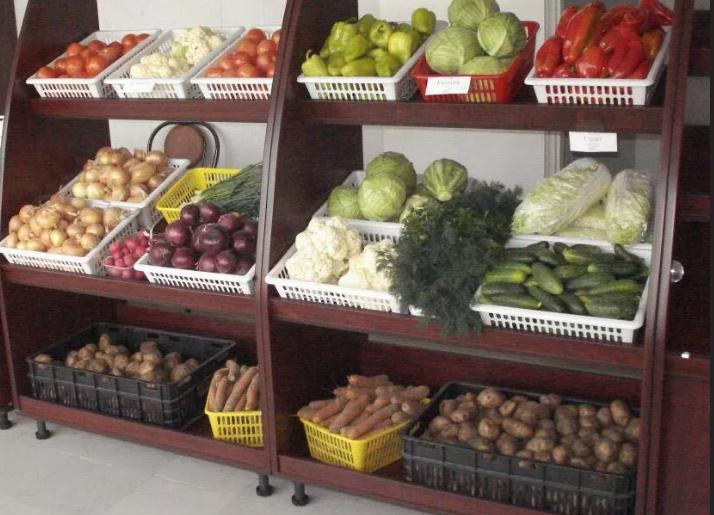carrot: (298, 370, 430, 450), (205, 356, 268, 428)
cucumber: (472, 236, 662, 334)
onion: (4, 190, 131, 272), (149, 198, 260, 280), (60, 141, 182, 210)
potato: (422, 388, 646, 498), (23, 323, 200, 390)
sweet pepper: (534, 1, 670, 91), (299, 2, 433, 92)
tomato: (32, 22, 146, 106), (204, 22, 284, 100)
